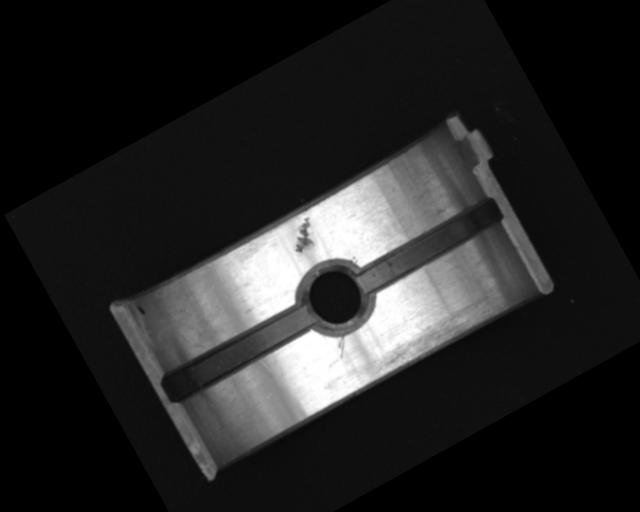blot: (133, 300, 148, 318)
bruise: (283, 214, 325, 258)
gap: (158, 297, 320, 406), (352, 194, 507, 298)
hole: (289, 250, 384, 345)
nick: (331, 333, 353, 358)
scratch: (366, 286, 508, 383)
